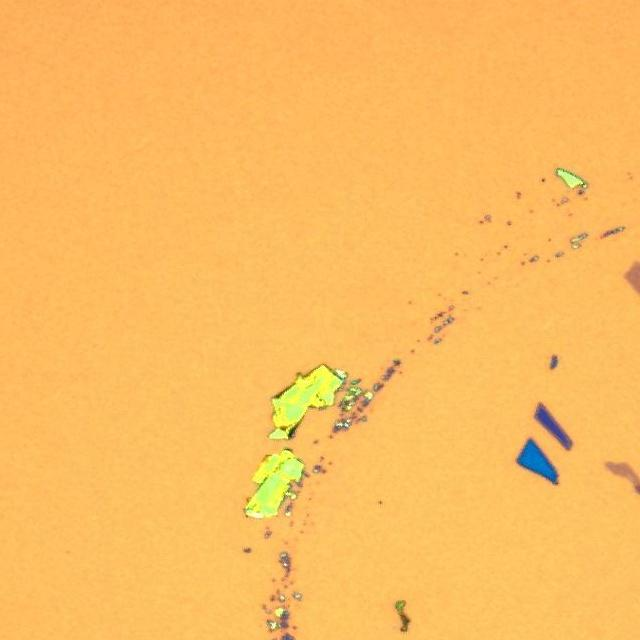monolayer-eWW4: (606, 459, 640, 486)
